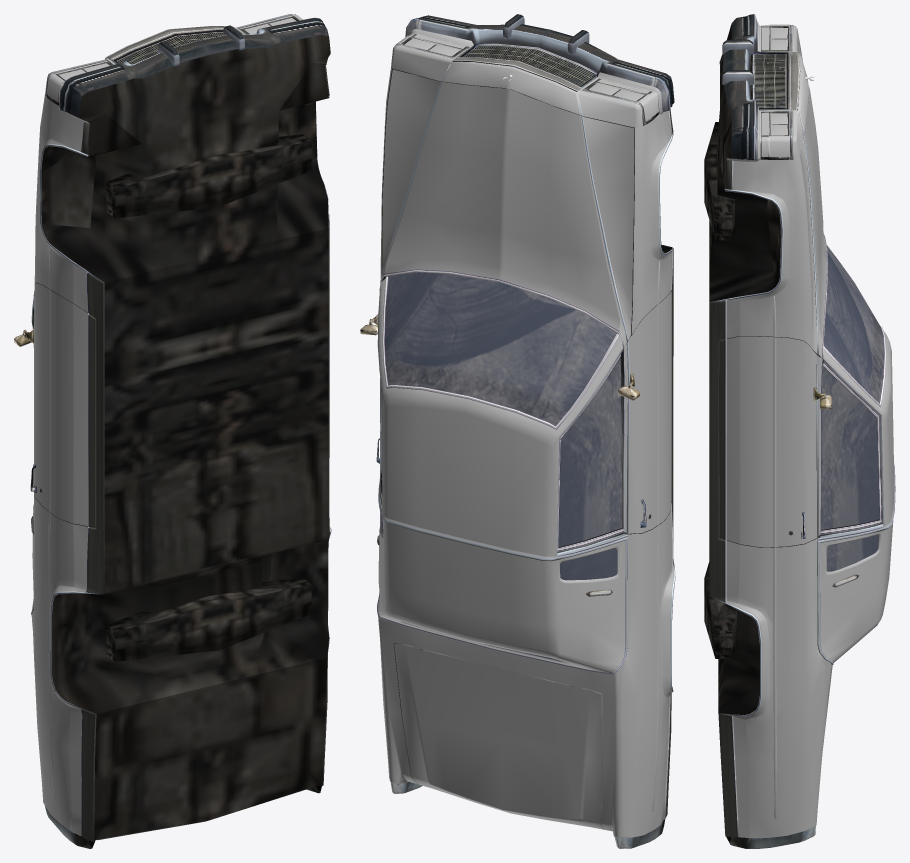
File: Grandstar.FBX
The picture shows the model from 3 angles, left to right: view 1: azimuth 30°, elevation 25°; view 2: azimuth 150°, elevation 25°; view 3: azimuth 270°, elevation 25°; orthographic projection. The views are drawn at different scales.
Visible parts, largest first — view 1: Bodymisc, Body_P, Doorpf_P, EngBay, Doorpfmisc; view 2: Body_P, Hood_P, Trunk_P, Vinyl_EC, Glassfront, Bodymisc, Doorpf_P, glasspf, Doorpfmisc, Hoodmisc, Glassbackp; view 3: Body_P, Bodymisc, Doordf_P, glassdf, Vinyl_EC, Glassfront, Doordfmisc, Hood_P, Glassbackd, EngBay, Hoodmisc, flare6.
Part boxes in pixels (x1,y1,x2,y2): Bodymisc: (31, 14, 331, 848); Body_P: (31, 14, 330, 835); Doorpf_P: (34, 283, 88, 526); EngBay: (41, 104, 317, 227); Doorpfmisc: (14, 296, 96, 528); Body_P: (378, 29, 674, 837); Hood_P: (382, 69, 634, 346); Trunk_P: (394, 644, 602, 829); Vinyl_EC: (378, 512, 627, 673); Glassfront: (384, 272, 616, 425); Bodymisc: (377, 14, 675, 848); Doorpf_P: (624, 292, 671, 533); glasspf: (558, 358, 622, 547); Doorpfmisc: (557, 291, 671, 551); Hoodmisc: (379, 69, 634, 347); Glassbackp: (560, 548, 617, 580); Body_P: (720, 23, 894, 838); Bodymisc: (704, 14, 895, 848); Doordf_P: (726, 336, 822, 547); glassdf: (821, 366, 879, 529); Vinyl_EC: (817, 465, 894, 662); Glassfront: (823, 245, 884, 402); Doordfmisc: (719, 339, 882, 540); Hood_P: (800, 49, 827, 357); Glassbackd: (826, 535, 878, 571); EngBay: (767, 46, 802, 277); Hoodmisc: (802, 89, 827, 358); flare6: (769, 136, 789, 156).
Size of the model in its own units: 205 by 554 by 129.
